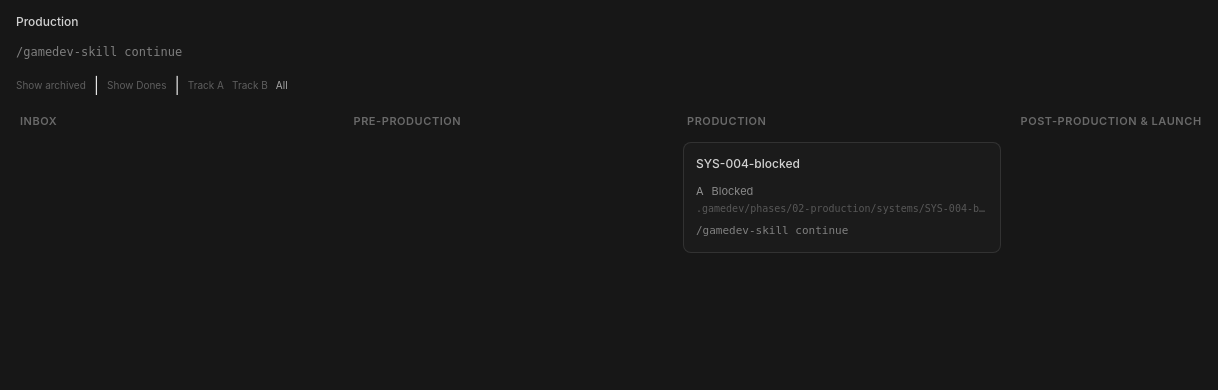
Test: GameBoardTab › paints Done and Blocked work-state labels
Expected: the element that starts with "SYS-004-blocked" is shown, [712, 184, 753, 198]
Expected: the text "SYS-003-done" is not shown
What coordinates should you click on to do the following:
click the button "Show Dones"
I would click on:
 (137, 85)
Its box is [107, 78, 166, 92].
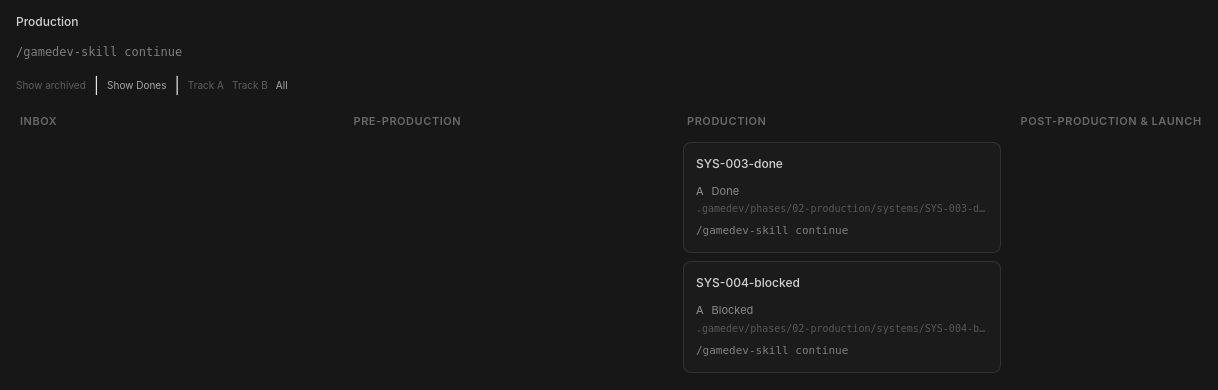
Expected: the element that starts with "SYS-003-done" is shown, [712, 184, 739, 198]
